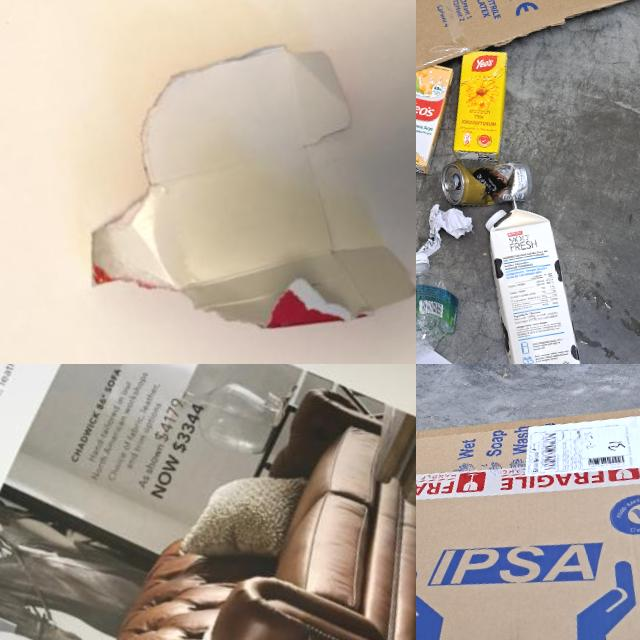aba de lata: (442, 177, 456, 191)
caixinha: (479, 190, 588, 364), (436, 46, 526, 168), (416, 59, 469, 180)
garrafa plástica: (416, 261, 469, 364)
lata: (437, 148, 534, 214)
papel: (56, 28, 416, 360), (0, 364, 416, 640), (416, 199, 476, 258)
papelão: (416, 0, 640, 129)
tampa plástica: (482, 208, 508, 230), (416, 250, 429, 269)
